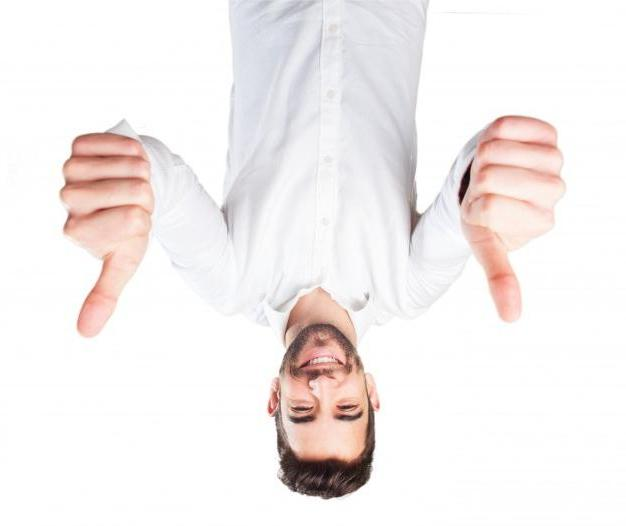thumbsdown: (466, 115, 566, 323), (59, 133, 156, 338)
